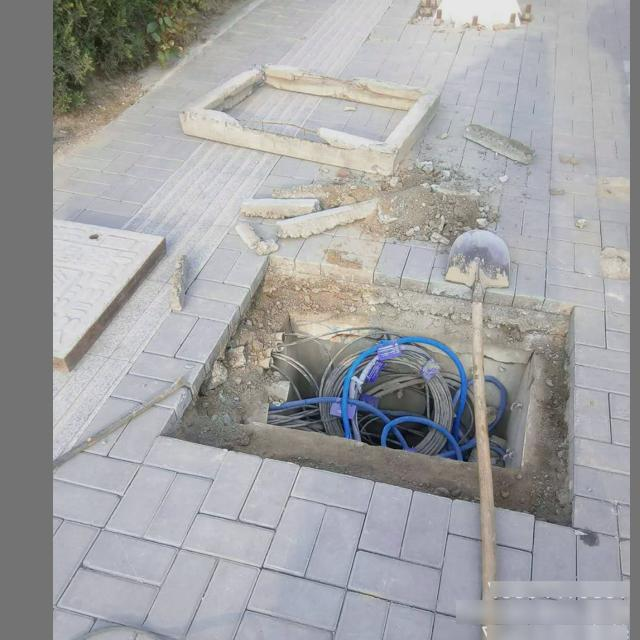lose: (227, 292, 559, 475)
